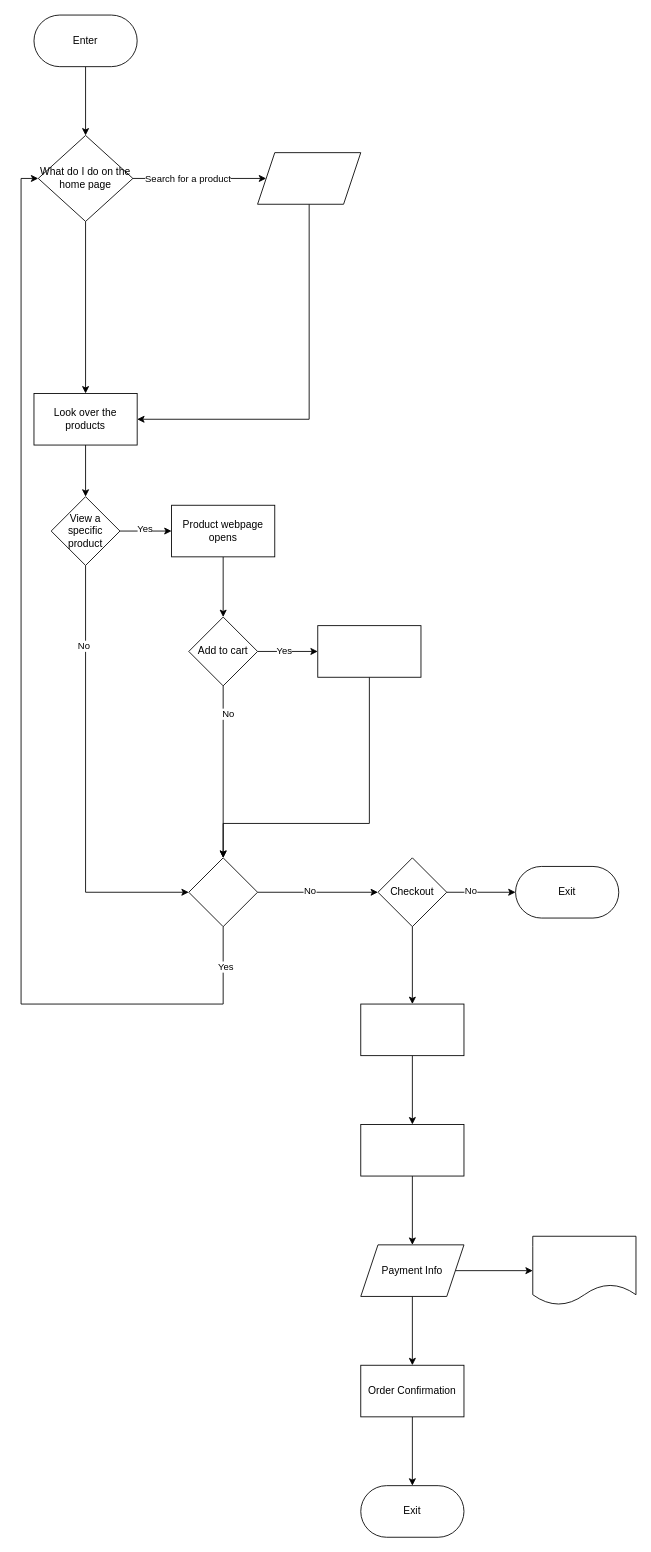
The diagram is 651 pixels wide and 1552 high, and some of its shapes have lost their labels. The shapes that lost their labels are listed below. From the top down, each one's centre as x and y in pixels, then its label:
the point at 309,178: Product search
the point at 369,651: Added to cart confirmation
the point at 223,892: Continue shopping
the point at 412,1029: View Cart
the point at 412,1150: View Payment
the point at 584,1270: Confirmation Email
